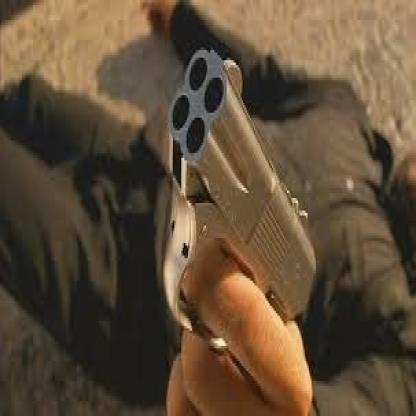Pistol: (128, 17, 330, 396)
